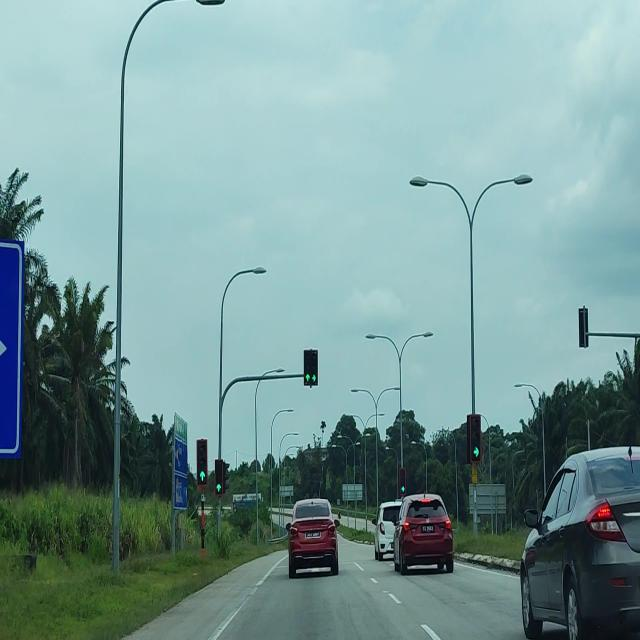car: (519, 445, 640, 640), (393, 493, 455, 575), (285, 498, 341, 579), (372, 500, 402, 561)
traffic light: (468, 414, 481, 464), (303, 349, 318, 386), (196, 439, 208, 485), (215, 460, 226, 495), (399, 468, 407, 496), (400, 483, 406, 496)
